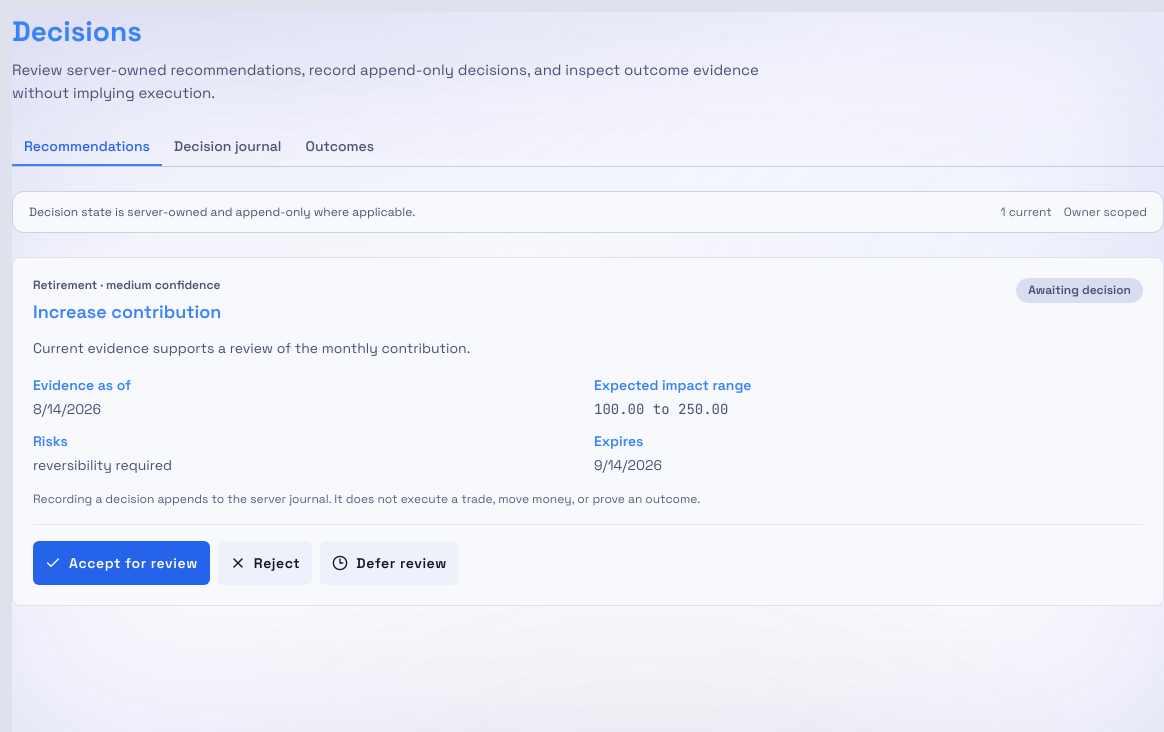
Test: Decisions destination › uses the authoritative decision ETag and persists the journal into server-backed history
The image size is (1164, 732).
Expected: the heading "Increase contribution" is shown, [33, 298, 221, 325]
What coordinates should you click on to do the following:
click the button "Accept for review"
I would click on:
 (121, 563)
Its box is [33, 541, 210, 585].
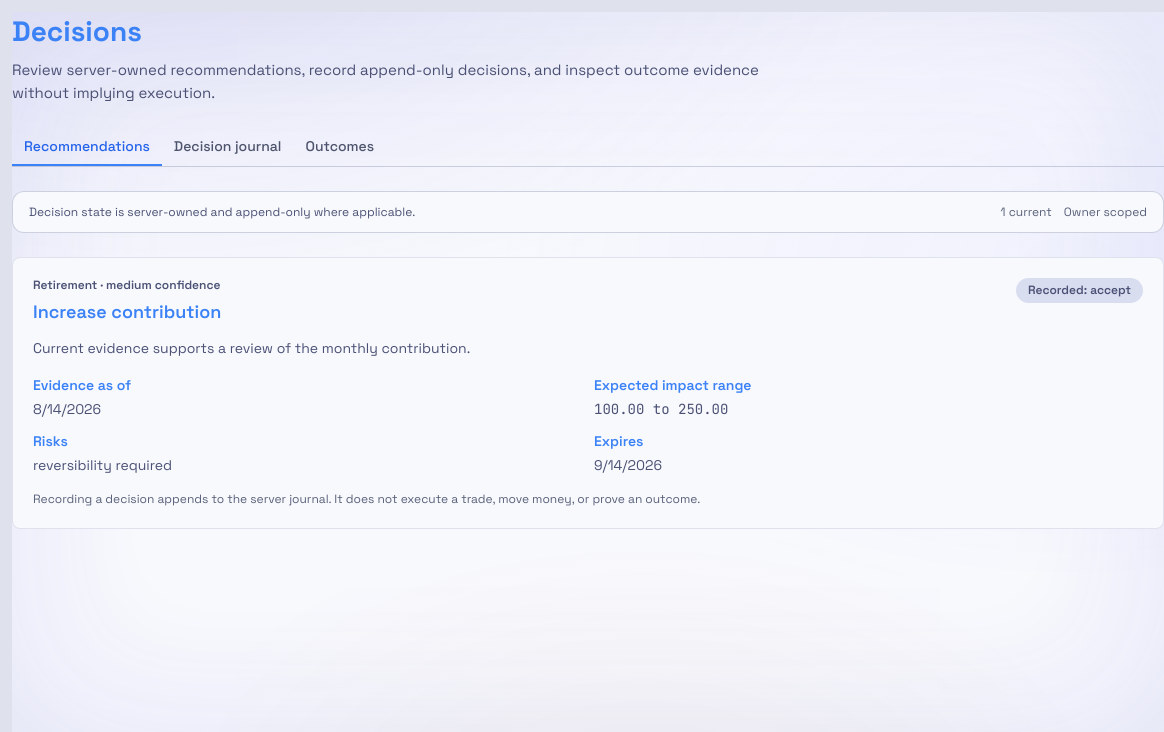
Result: the text "Recorded: accept" is shown at [1016, 278, 1143, 303]
